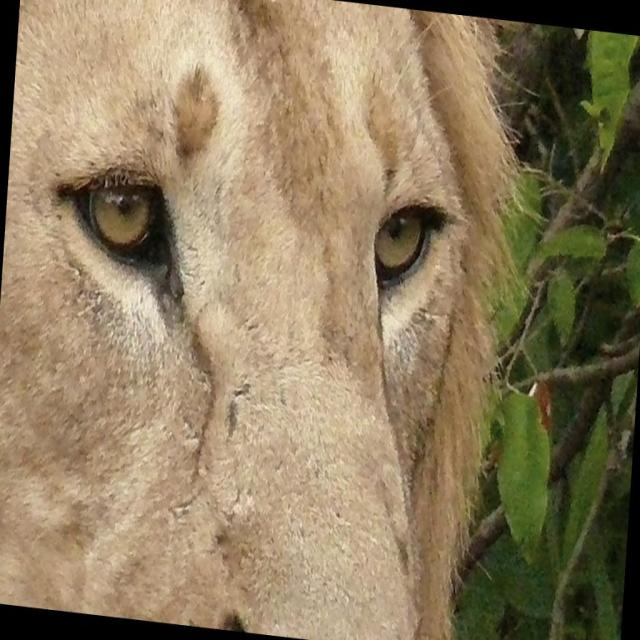Lion: (0, 0, 581, 639)
